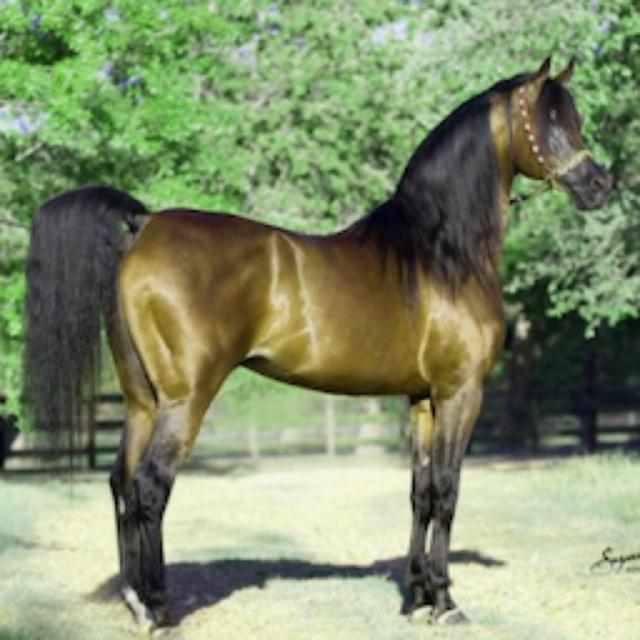Horse: (10, 50, 620, 638)
